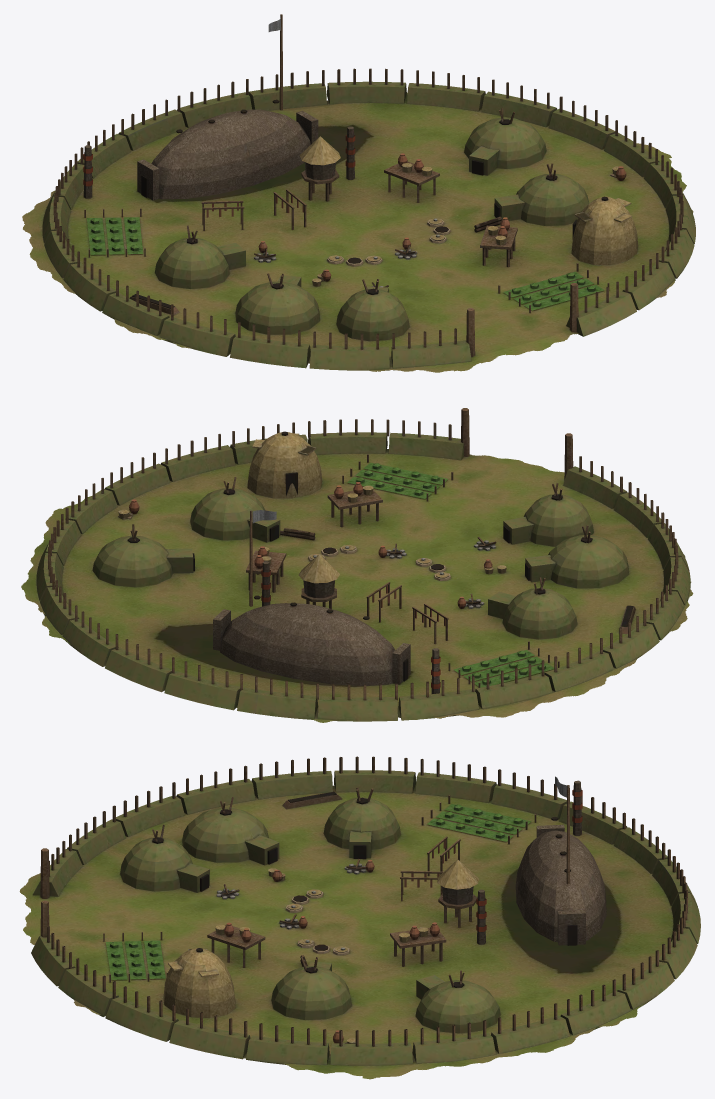
The model's file is stone-town-small-b-americas.glb.
3 views of the same model, one above another, from view 1: azimuth 30°, elevation 25°; view 2: azimuth 150°, elevation 25°; view 3: azimuth 270°, elevation 25° (orthographic). The views are drawn at different scales.
Parts seen in each view (by area): view 1: LOD0; view 2: LOD0; view 3: LOD0.
Boxes of the visible parts, x1=… form: LOD0: x1=22, y1=14, x2=695, y2=372; LOD0: x1=21, y1=408, x2=693, y2=722; LOD0: x1=19, y1=756, x2=700, y2=1079.
Size of what is drawn, in the model's own units: 4.01 by 0.9141 by 3.82.
3 materials, 3 textured.
